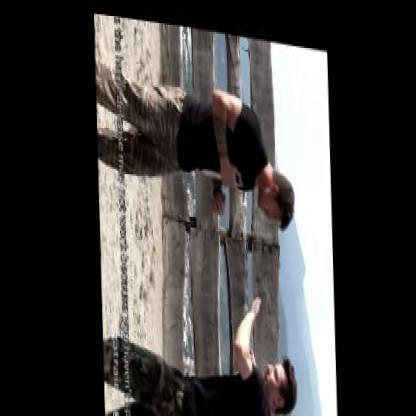knife: (198, 148, 243, 183)
